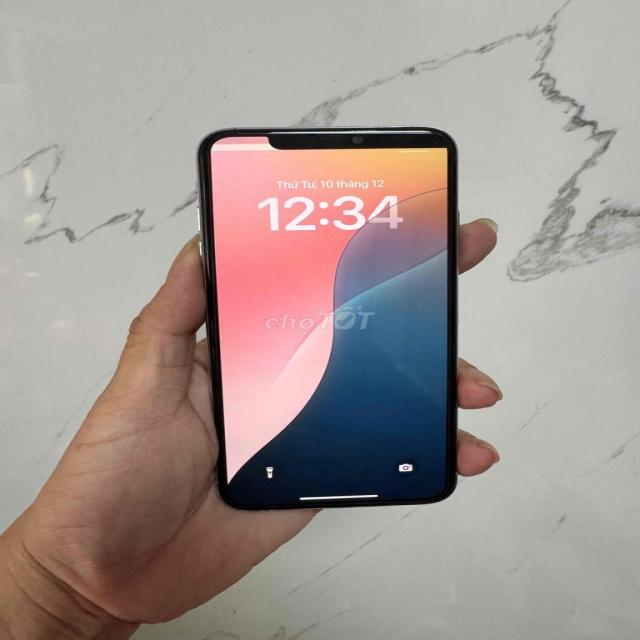screen_defect: (367, 122, 453, 151), (200, 140, 280, 156)
